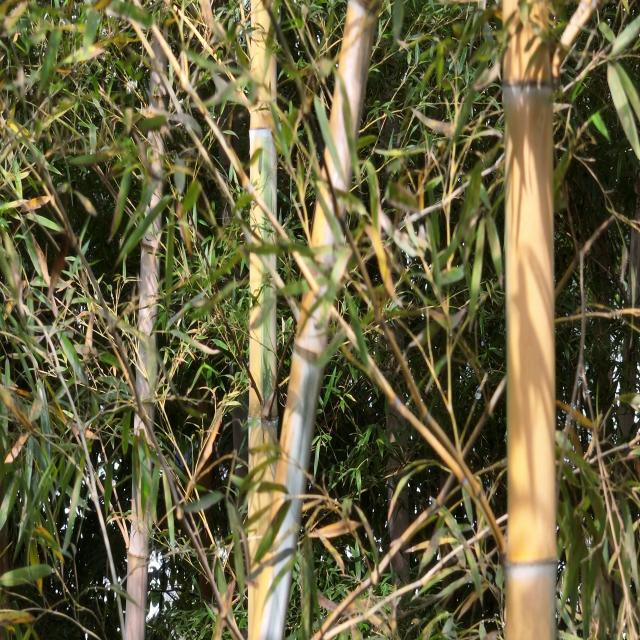Bamboo-shoots: (502, 0, 557, 640), (249, 0, 278, 640)
